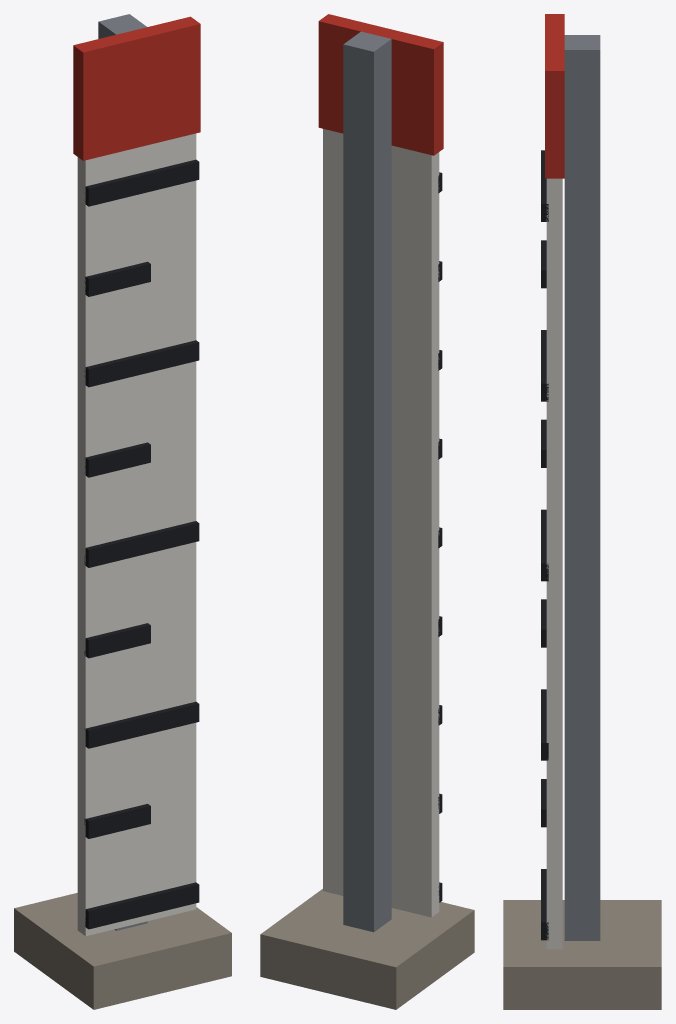
File: flood-gauge.glb
The picture shows the model from 3 angles, left to right: view 1: azimuth 30°, elevation 25°; view 2: azimuth 150°, elevation 25°; view 3: azimuth 270°, elevation 25°; orthographic projection.
Parts seen in each view (by area): view 1: flood-gauge; view 2: flood-gauge; view 3: flood-gauge.
Boxes of the visible parts, box(x1,y1,x2,y2) form: flood-gauge: box(14, 14, 231, 1009); flood-gauge: box(260, 14, 474, 1009); flood-gauge: box(503, 14, 661, 1009).
Bounding box in the file's own units: 0.4 × 2.6 × 0.4.
